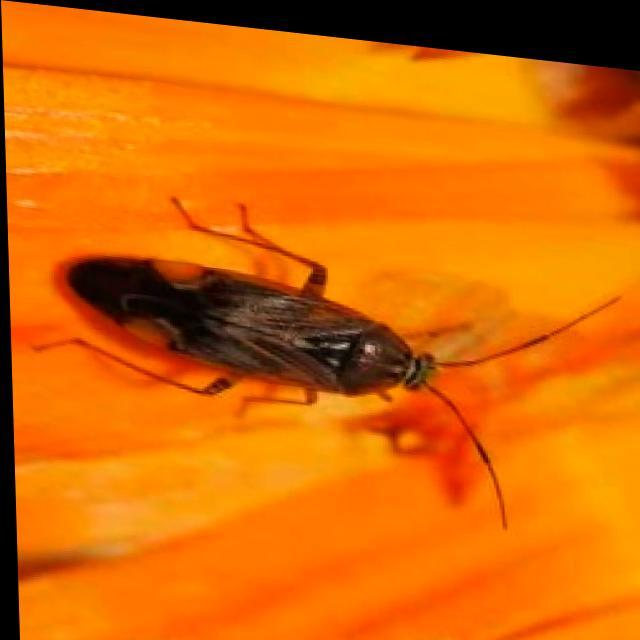cockroach: (35, 191, 625, 532)
